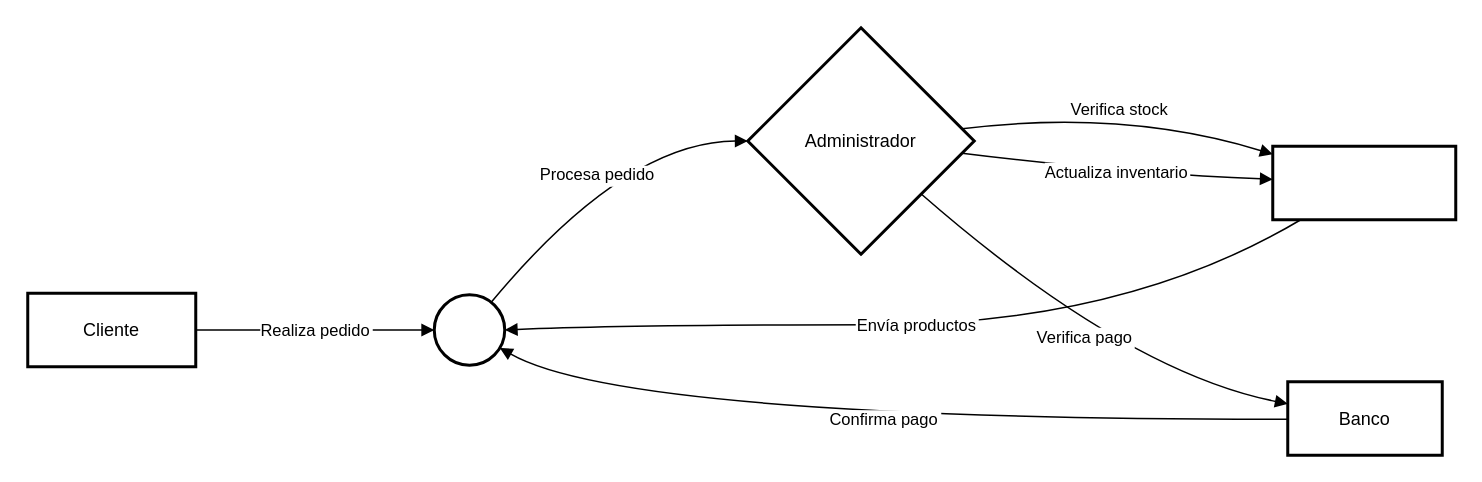
This 1482x482 diagram has some shape labels left out. The shapes that lost their labels are listed below. From the top down, each one's centre as x and y in pixels, then its label:
point 1363,182: Almacén
point 469,329: Web
